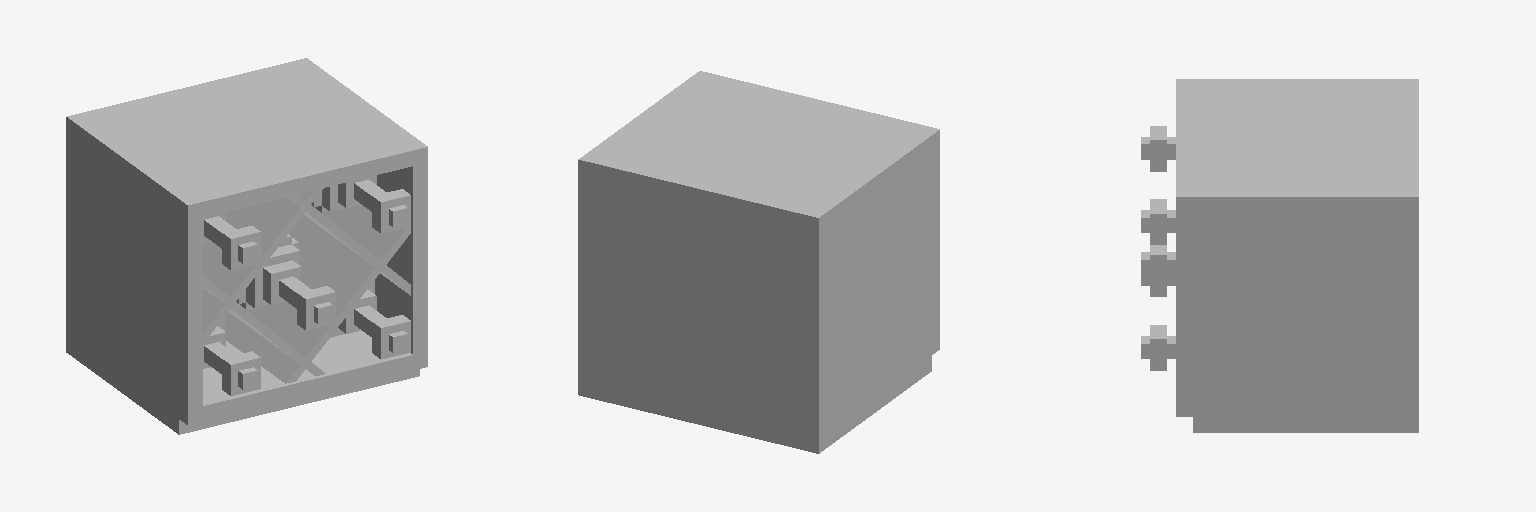
Rendered from 1286_wine_rack.obj.
3 views of the same model, side by side, from view 1: azimuth 30°, elevation 25°; view 2: azimuth 150°, elevation 25°; view 3: azimuth 270°, elevation 25° (orthographic).
Parts seen in each view (by area): view 1: Top1, Frame1, Frame5, Frame4, Frame2, bottle1q, Frame6, Frame9, bottle2q, bottle3q, corkq, bottle4q (+2 smaller); view 2: Frame5, Top1, Frame1, Frame4, Frame9, Frame2; view 3: Frame2, Top1, Frame4, Frame9, bottle1q, corkq, bottle2q.
Boxes of the visible parts, x1,y1,x2,y2 form: Top1: [66, 58, 427, 220]; Frame1: [66, 132, 202, 409]; Frame5: [225, 205, 410, 383]; Frame4: [66, 321, 427, 424]; Frame2: [375, 163, 427, 354]; bottle1q: [222, 189, 410, 395]; Frame6: [203, 188, 323, 343]; Frame9: [66, 337, 419, 434]; bottle2q: [204, 180, 386, 373]; bottle3q: [203, 175, 376, 368]; corkq: [238, 205, 407, 389]; bottle4q: [218, 185, 374, 337]; Frame5: [593, 179, 803, 418]; Top1: [578, 71, 939, 233]; Frame1: [804, 146, 939, 422]; Frame4: [578, 334, 939, 437]; Frame9: [578, 356, 931, 453]; Frame2: [578, 175, 592, 366]; Frame2: [1176, 212, 1418, 400]; Top1: [1176, 79, 1418, 211]; Frame4: [1176, 401, 1418, 416]; Frame9: [1193, 417, 1418, 432]; bottle1q: [1150, 126, 1166, 370]; corkq: [1141, 137, 1149, 358]; bottle2q: [1167, 137, 1175, 358].
Bounding box in the file's own units: 1 × 0.9375 × 1.